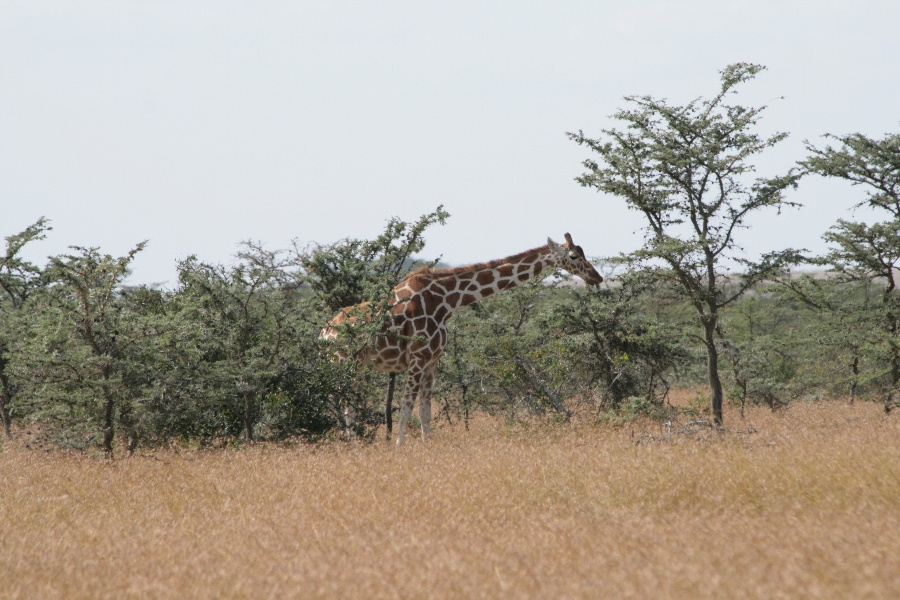giraffe: (305, 222, 608, 449)
